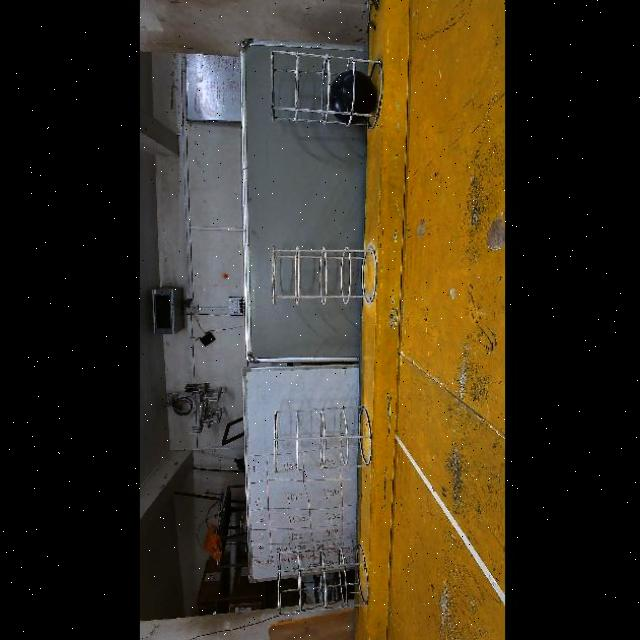P: (328, 70, 375, 124)
S: (263, 55, 381, 127), (264, 239, 374, 305), (270, 411, 378, 471), (274, 550, 368, 612)
